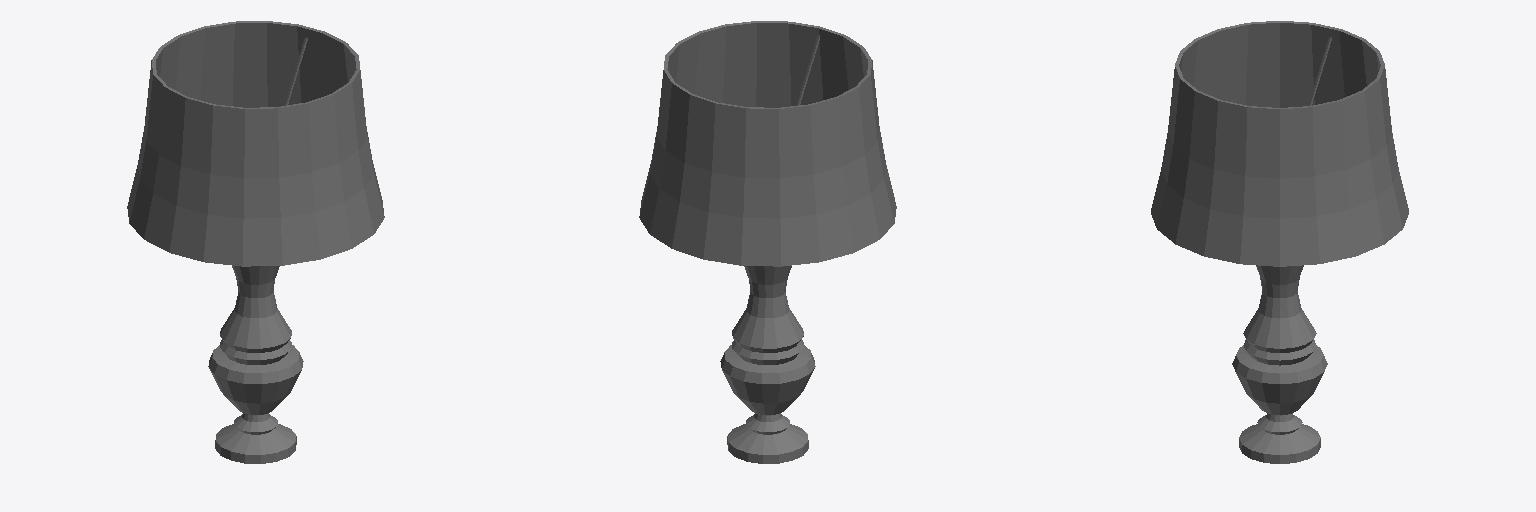
The model's file is eb_lamp_01.obj.
The picture shows the model from 3 angles: view 1: azimuth 30°, elevation 25°; view 2: azimuth 150°, elevation 25°; view 3: azimuth 270°, elevation 25°; orthographic projection.
Parts seen in each view (by area): view 1: eb_lamp_01_low c_low, eb_lamp_01_low b_low; view 2: eb_lamp_01_low c_low, eb_lamp_01_low b_low; view 3: eb_lamp_01_low c_low, eb_lamp_01_low b_low.
Boxes of the visible parts, x1=… form: eb_lamp_01_low c_low: x1=127, y1=21, x2=384, y2=266; eb_lamp_01_low b_low: x1=208, y1=266, x2=303, y2=463; eb_lamp_01_low c_low: x1=639, y1=21, x2=896, y2=266; eb_lamp_01_low b_low: x1=720, y1=266, x2=815, y2=463; eb_lamp_01_low c_low: x1=1151, y1=21, x2=1408, y2=266; eb_lamp_01_low b_low: x1=1232, y1=265, x2=1327, y2=463.
Bounding box in the file's own units: 47.81 × 77.83 × 47.81.